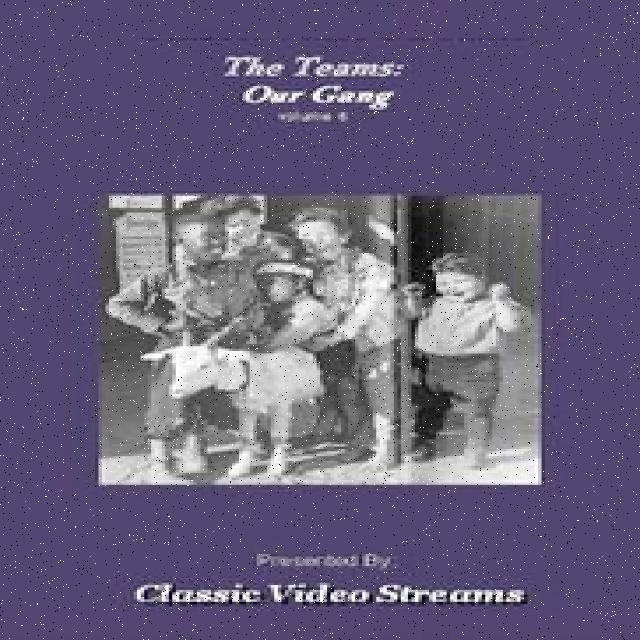movie-judul: (120, 545, 539, 623), (200, 38, 419, 138)
picture: (108, 196, 544, 484)
